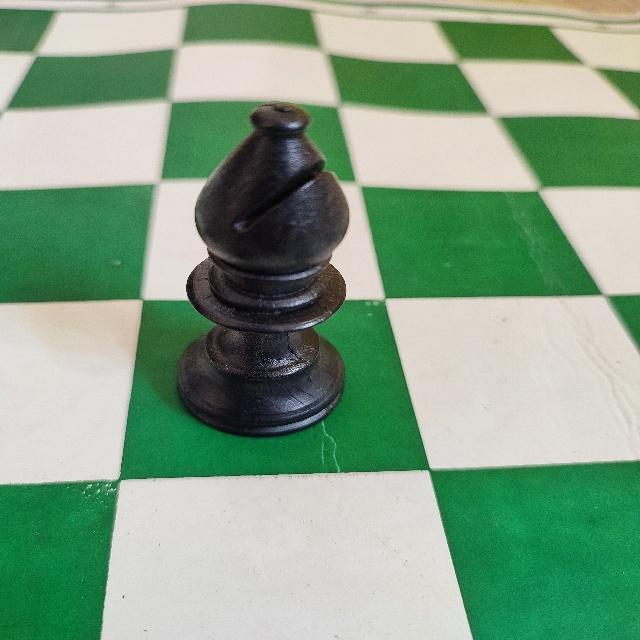Bishop: (168, 101, 352, 443)
